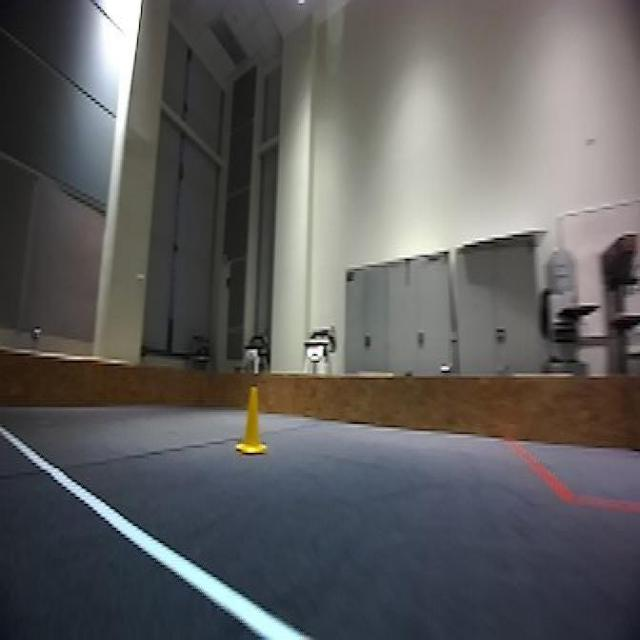frc_cone: (236, 379, 271, 458)
